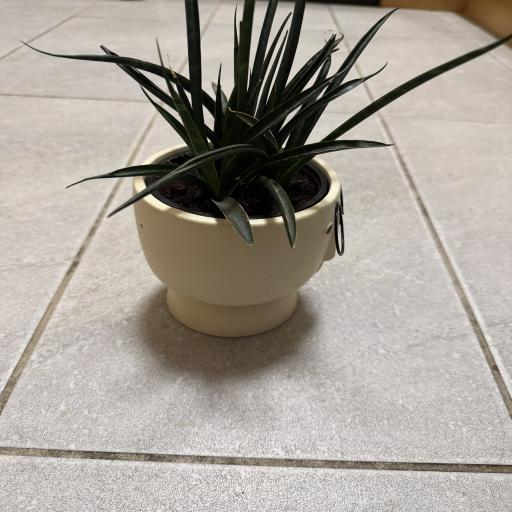Plant Pot: (130, 147, 354, 335)
